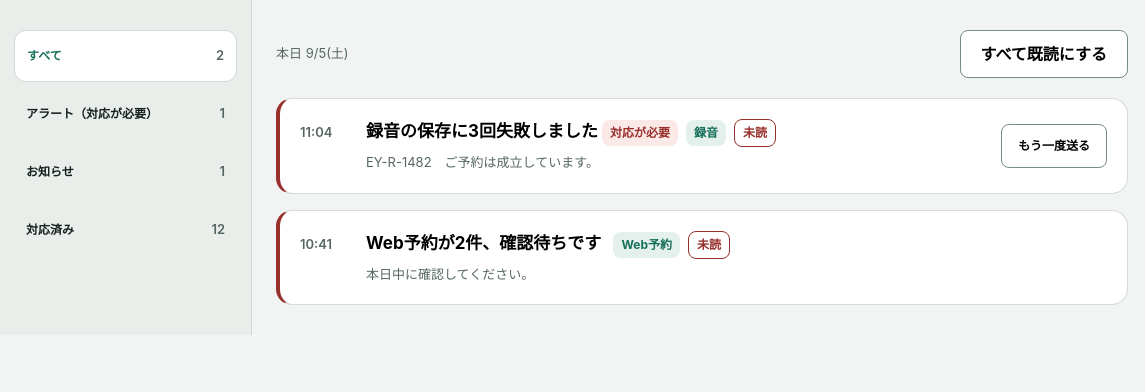
Scenario: お知らせ画面 › 付属操作が失敗したら対応済みにせず、未対応のまま残す
The image size is (1145, 392).
What coordinates should you click on to do the following:
click the button "もう一度送る"
I would click on:
 (1054, 146)
Its box is [1001,124,1107,168].
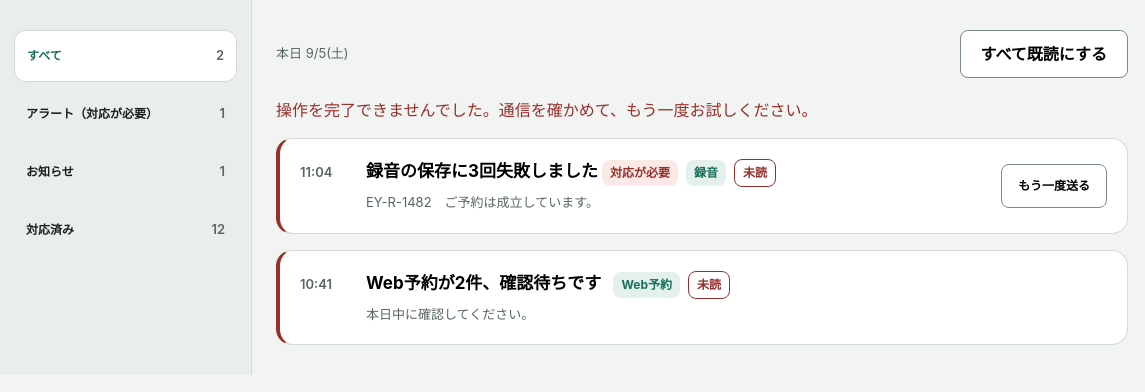
Expected: the button "もう一度送る" is shown, [1001,164,1107,208]
Now the message shows "操作を完了できませんでした", box [276,100,818,120]
